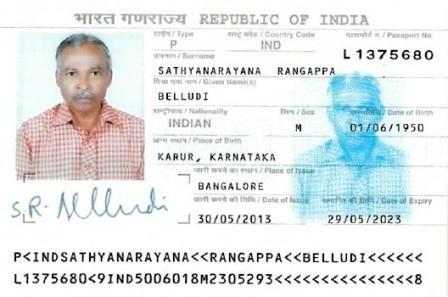DOB: (345, 120, 436, 137)
Surname: (158, 61, 337, 75)
country_code: (257, 37, 286, 53)
date_of_expiry: (321, 212, 409, 225)
date_of_issue: (194, 210, 275, 224)
details: (5, 246, 429, 287)
name: (156, 87, 211, 102)
nationality: (166, 116, 217, 128)
passport_no: (337, 48, 438, 61)
photo: (16, 32, 143, 179)
place_of_birth: (156, 150, 281, 163)
place_of_issue: (194, 178, 266, 190)
sex: (290, 121, 308, 135)
sign: (7, 187, 167, 224)
type: (167, 38, 180, 52)
